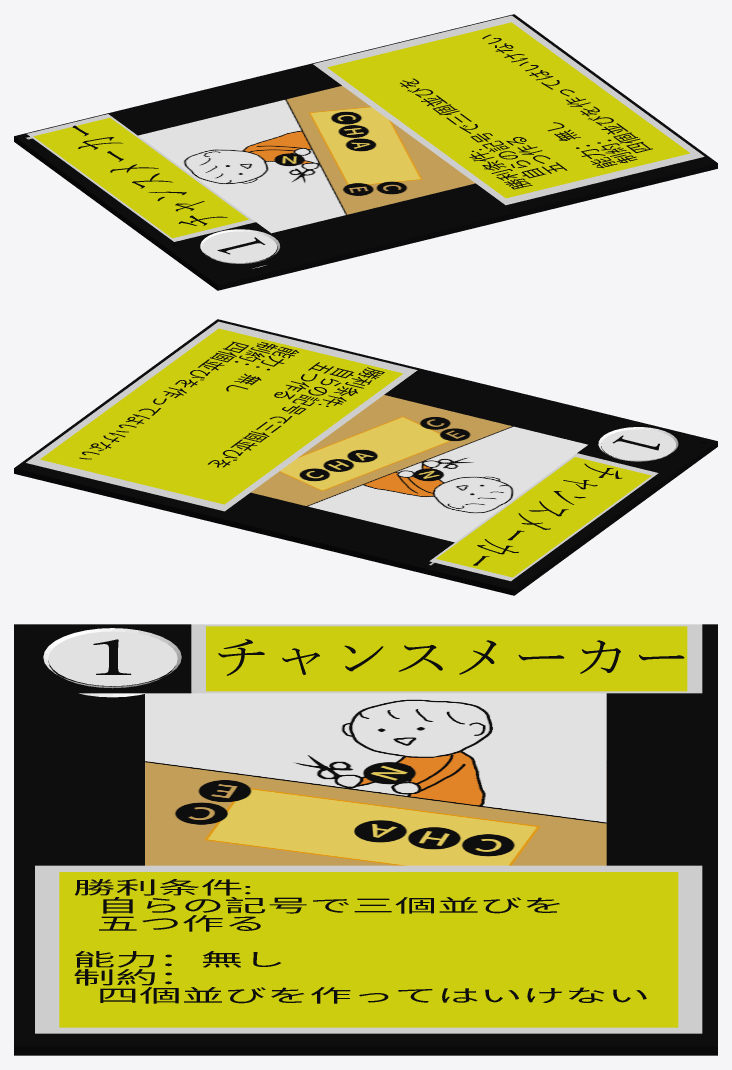
Rendered from チャンスメーカー黒.fbx.
3 renders of one model, top to bottom at view 1: azimuth 30°, elevation 25°; view 2: azimuth 150°, elevation 25°; view 3: azimuth 270°, elevation 25°, orthographic. The views are drawn at different scales.
Visible parts, largest first — view 1: 説明欄, 平面.001, カード本体.001, 名前欄, 説明文, 円, 平面, 名前; view 2: 説明欄, 平面.001, カード本体.001, 名前欄, 説明文, 円, 平面, 名前; view 3: 説明欄, 平面.001, カード本体.001, 名前欄, 説明文, 円, 平面, 名前, コスト蘭.
Part boxes in pixels (<box>): 説明欄: <box>313,15,704,205</box>; 平面.001: <box>138,86,475,233</box>; カード本体.001: <box>14,14,717,290</box>; 名前欄: <box>27,114,255,241</box>; 説明文: <box>400,34,652,189</box>; 円: <box>202,231,276,262</box>; 平面: <box>174,222,302,275</box>; 名前: <box>72,125,227,225</box>; 説明欄: <box>26,321,417,511</box>; 平面.001: <box>251,395,587,542</box>; カード本体.001: <box>14,319,717,595</box>; 名前欄: <box>429,453,658,581</box>; 説明文: <box>79,341,384,467</box>; 円: <box>601,429,675,460</box>; 平面: <box>577,419,704,472</box>; 名前: <box>473,463,621,565</box>; 説明欄: <box>35,865,702,1033</box>; 平面.001: <box>145,693,606,865</box>; カード本体.001: <box>14,624,717,1055</box>; 名前欄: <box>191,624,702,693</box>; 説明文: <box>74,879,646,1003</box>; 円: <box>48,631,177,686</box>; 平面: <box>30,624,191,693</box>; 名前: <box>218,639,684,675</box>; コスト蘭: <box>43,628,181,697</box>.
Bounding box in the file's own units: 281 × 6.07 × 198.
Materials: 13 (1 with a texture image).
